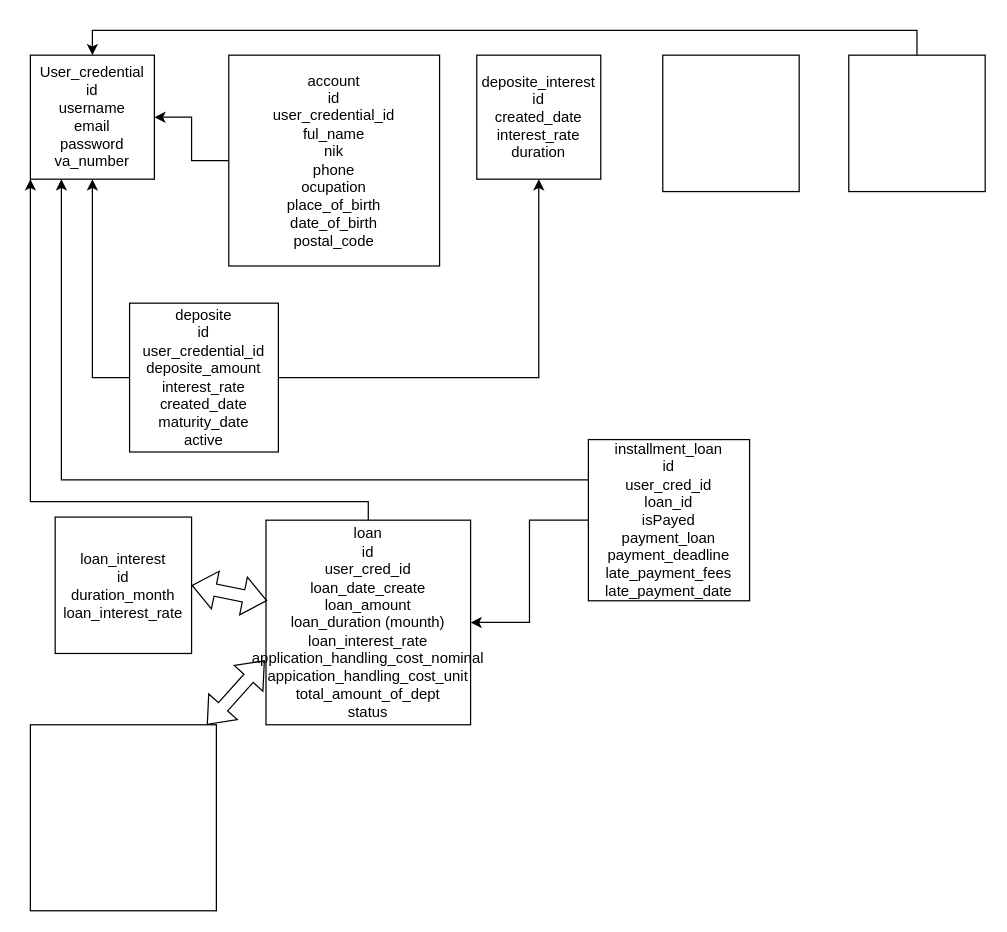
Image size: 1007x932. Some labels were removed from this diagram. Here are the shapes that lost their labels. From the top down, the centre of each, then its label:
At pixel 730 123: "top_up id user_credential_id top_up_amount maturity_time status".
At pixel 916 123: "saldo id user_credential_id total_saving".
At pixel 122 817: "application_handling_cost id name nominal unit".
